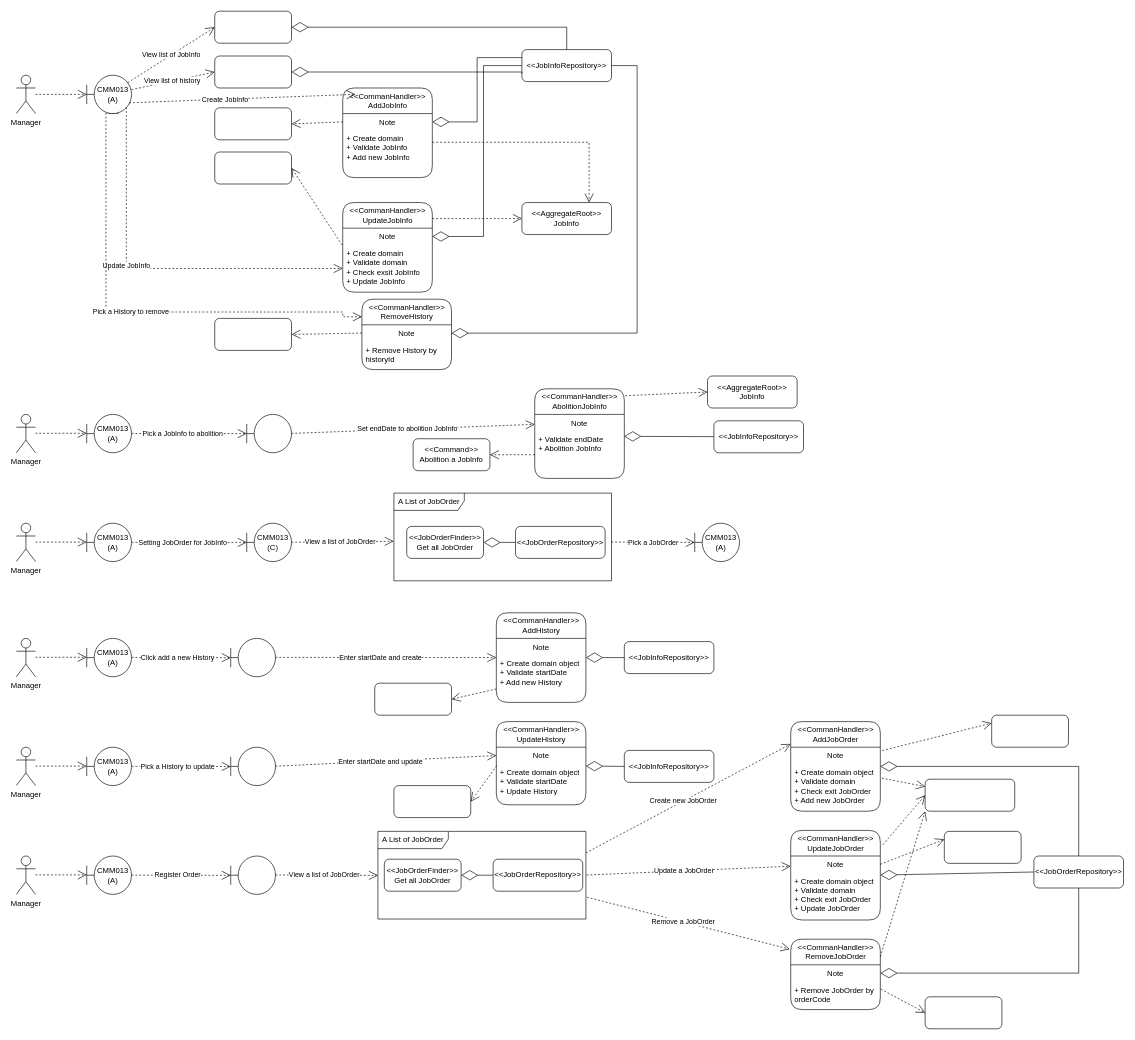
Some shapes in this 1135 by 1040 pixel diagram are drawn without their labels. The shapes that lost their labels are listed below. From the top down, each one's centre as x and y in pixels, then its label:
At [253,27]: "<<JobInfoFinder>> Get a list of JobInfo".
At [253,71]: "<<HistoryFinder>> Get a list of history by jobCode".
At [253,123]: "<<Command>> Create a new JobInfo".
At [253,167]: "<<Command>> Update a new JobInfo".
At [253,334]: "<<Command>> Remove a History".
At [269,433]: "CMM013 (B)".
At [253,657]: "CMM013 (D)".
At [413,699]: "<<Command>> Create new History".
At [1029,731]: "<<Command>> Create new JobOrder".
At [253,766]: "CMM013 (E)".
At [432,801]: "<<Command>> Update History".
At [969,795]: "<<AggregateRoot>> JobOrder".
At [982,847]: "<<Command>> Update JobOrder".
At [253,874]: "CMM013 (F)".
At [963,1012]: "<<Command>> Remove JobOrder".
